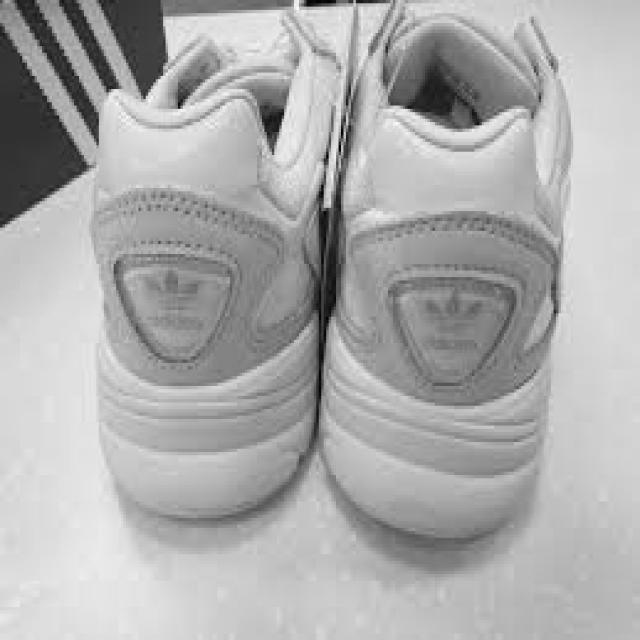Adidas: (418, 281, 494, 347), (141, 264, 208, 324)
